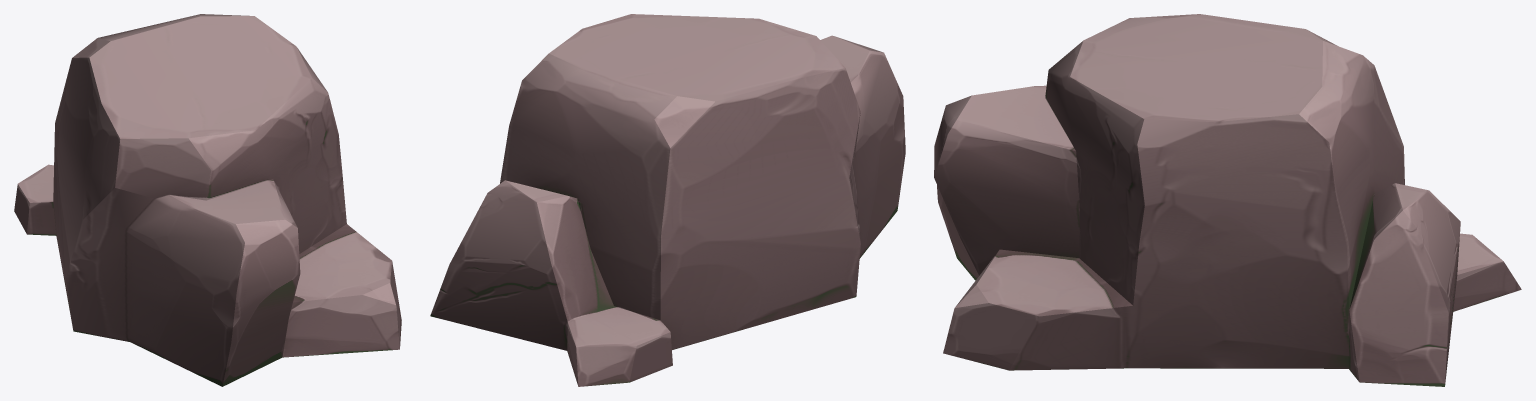
File: zone0-rock-new3.glb
3 renders of one model, left to right at view 1: azimuth 30°, elevation 25°; view 2: azimuth 150°, elevation 25°; view 3: azimuth 270°, elevation 25°, orthographic. The views are drawn at different scales.
Visible parts, largest first — view 1: lp2_Material_0; view 2: lp2_Material_0; view 3: lp2_Material_0.
Part boxes in pixels (<box>): lp2_Material_0: <box>14,14,401,386</box>; lp2_Material_0: <box>430,14,905,386</box>; lp2_Material_0: <box>934,14,1521,386</box>.
Bounding box in the file's own units: 7.79 × 5.57 × 11.93.
Materials: 1 (1 with a texture image).
